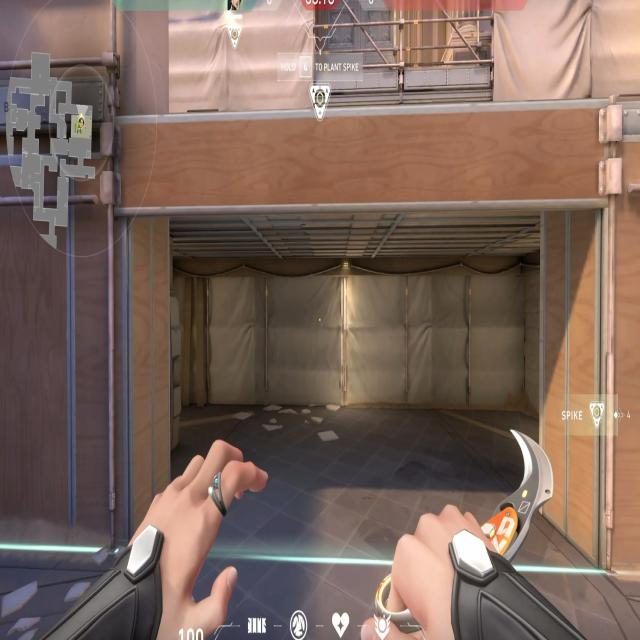A_Hell: (98, 102, 624, 584)
